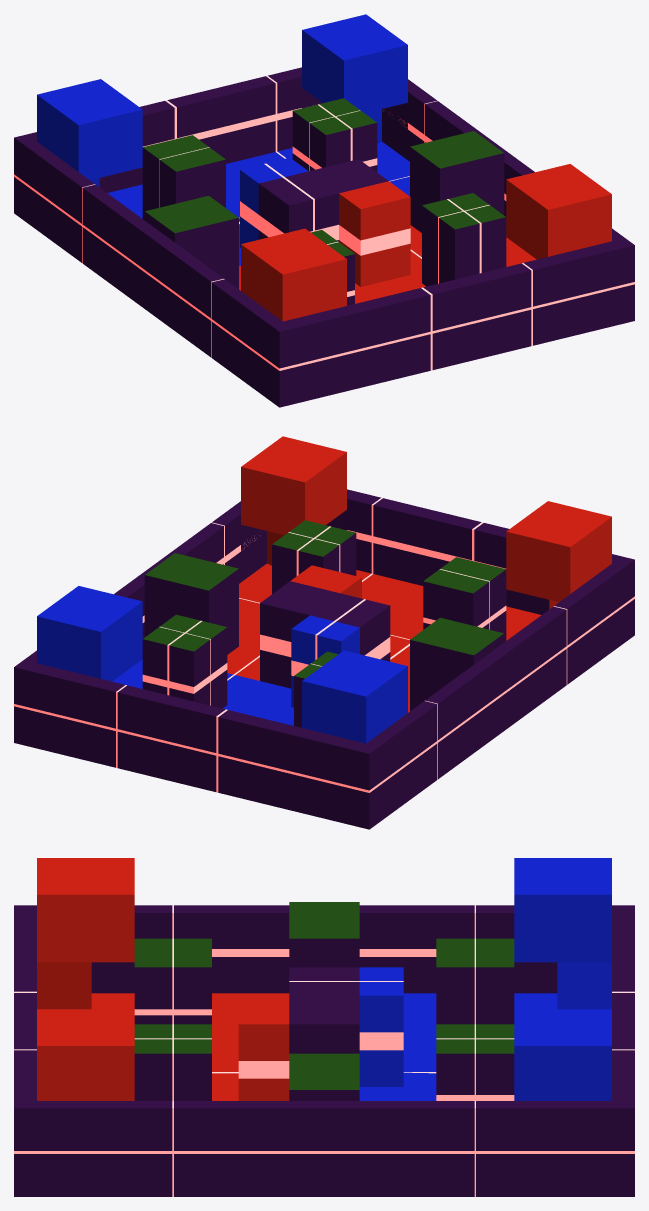
The model's file is free_map_pvp_fps_neon.glb.
3 renders of one model, top to bottom at view 1: azimuth 30°, elevation 25°; view 2: azimuth 150°, elevation 25°; view 3: azimuth 270°, elevation 25°, orthographic. The views are drawn at different scales.
Visible parts, largest first — view 1: Cube_0; view 2: Cube_0; view 3: Cube_0.
Part boxes in pixels (x1,y1,x2,y2): Cube_0: [14, 14, 634, 407]; Cube_0: [14, 436, 634, 829]; Cube_0: [14, 858, 634, 1196].
Size of the model in its own units: 18.83 by 6.21 by 24.36.
